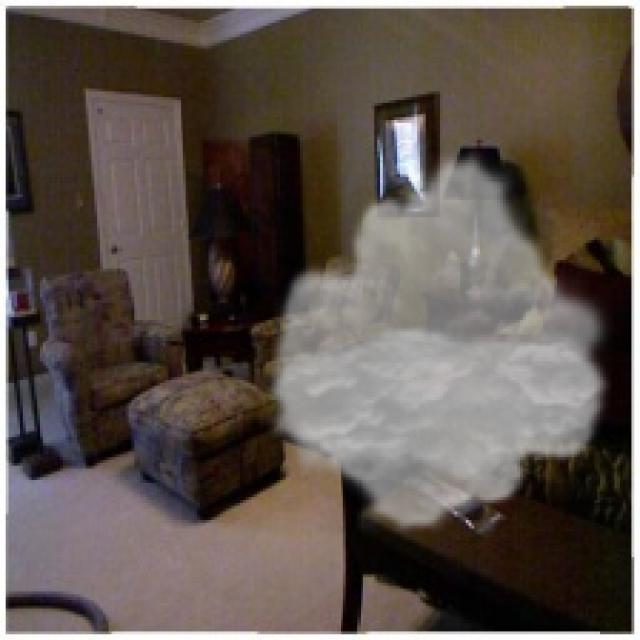Smoke: (260, 148, 617, 534)
